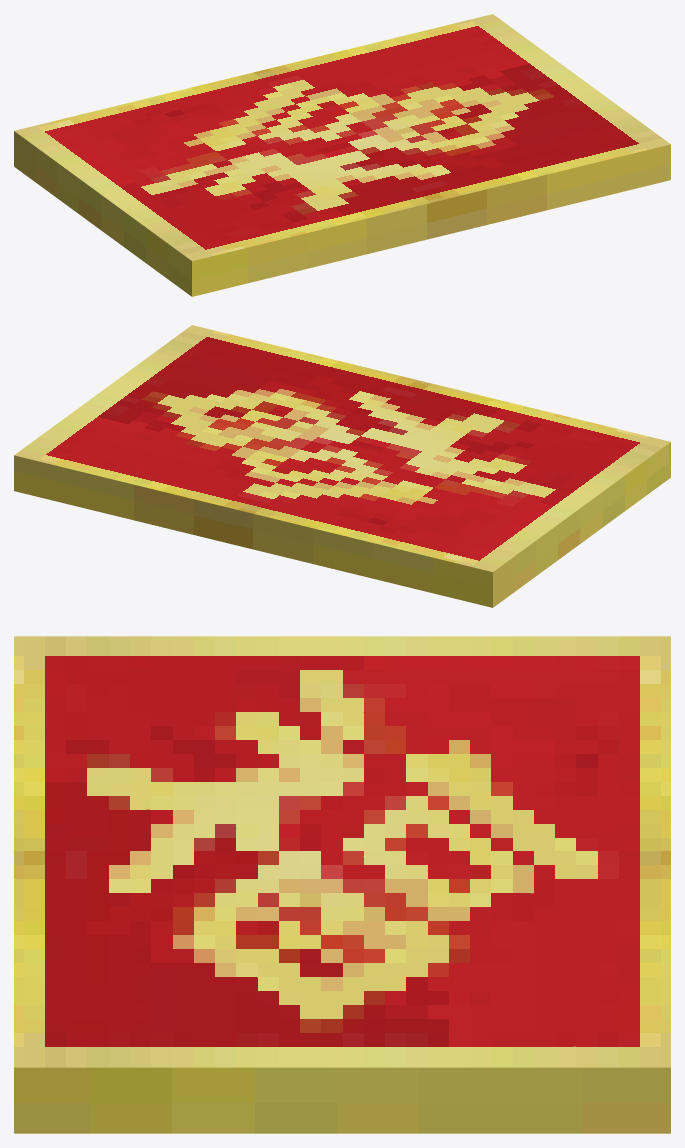
File: envelope_close.fbx
The picture shows the model from 3 angles, top to bottom: view 1: azimuth 30°, elevation 25°; view 2: azimuth 150°, elevation 25°; view 3: azimuth 270°, elevation 25°; orthographic projection. The views are drawn at different scales.
Visible parts, largest first — view 1: red_env; view 2: red_env; view 3: red_env.
Part boxes in pixels (x1,y1,x2,y2): red_env: (14,14,670,296); red_env: (14,325,670,607); red_env: (14,636,670,1133).
Bounding box in the file's own units: 1.21 × 0.0862 × 0.7777.
